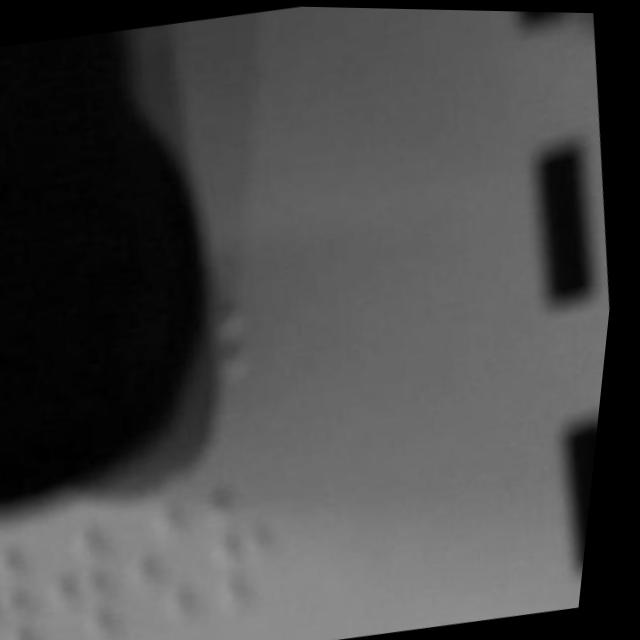braiile: (199, 471, 306, 632), (115, 494, 226, 640), (43, 505, 145, 640), (0, 520, 69, 640)
